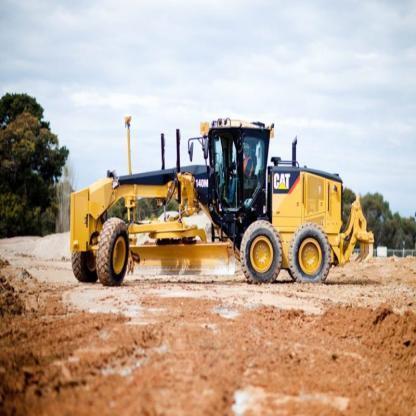bull_dozer/loader/grader: (59, 99, 382, 309)
